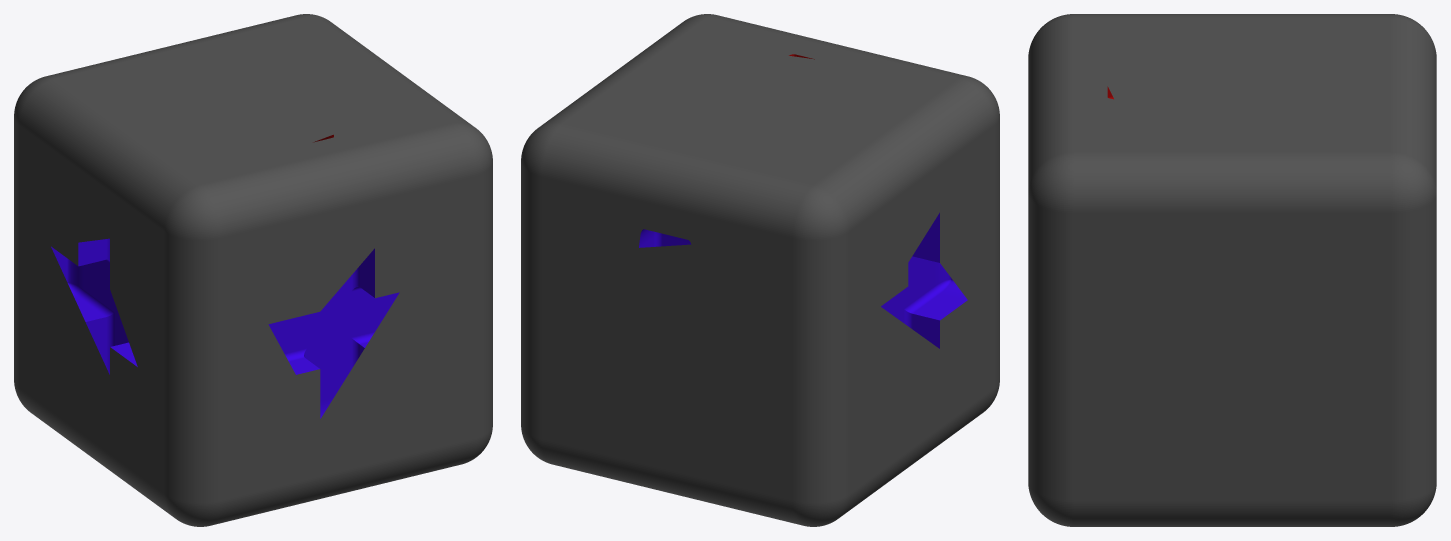
Rendered from Zar.fbx.
The picture shows the model from 3 angles, left to right: view 1: azimuth 30°, elevation 25°; view 2: azimuth 150°, elevation 25°; view 3: azimuth 270°, elevation 25°; orthographic projection. The views are drawn at different scales.
Parts seen in each view (by area): view 1: Cube; view 2: Cube; view 3: Cube.
Part boxes in pixels (bbox=[...]): Cube: bbox=[14, 14, 492, 526]; Cube: bbox=[521, 14, 999, 526]; Cube: bbox=[1028, 14, 1436, 526].
Bounding box in the file's own units: 200 × 200 × 200.
